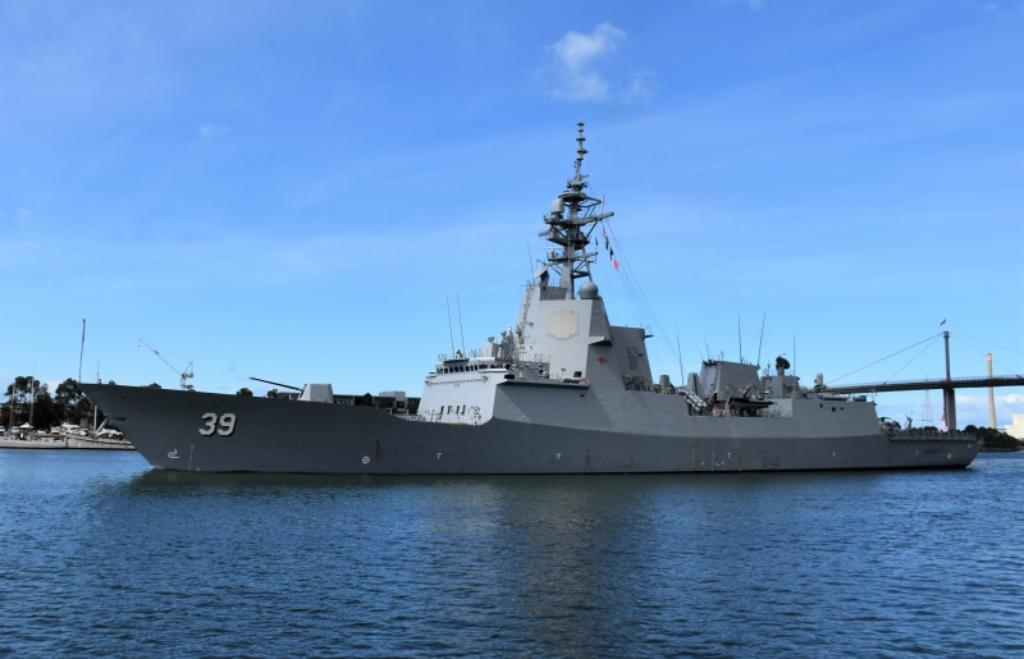Warship: (70, 118, 982, 478)
